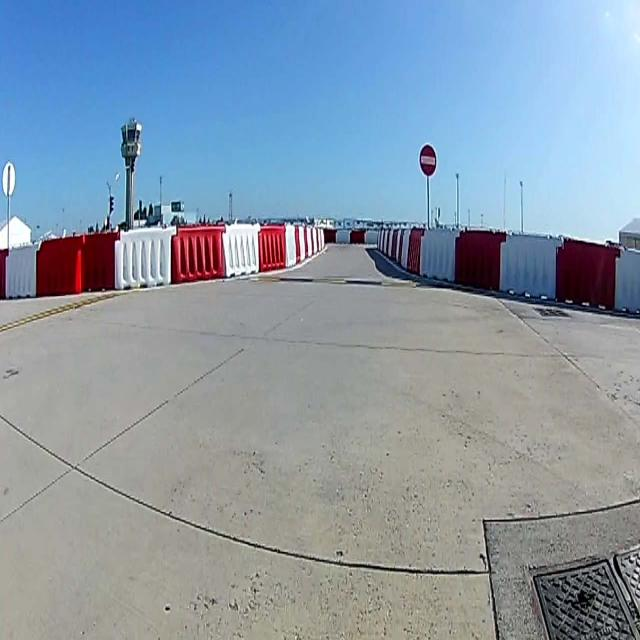girisyok: (418, 141, 438, 176)
